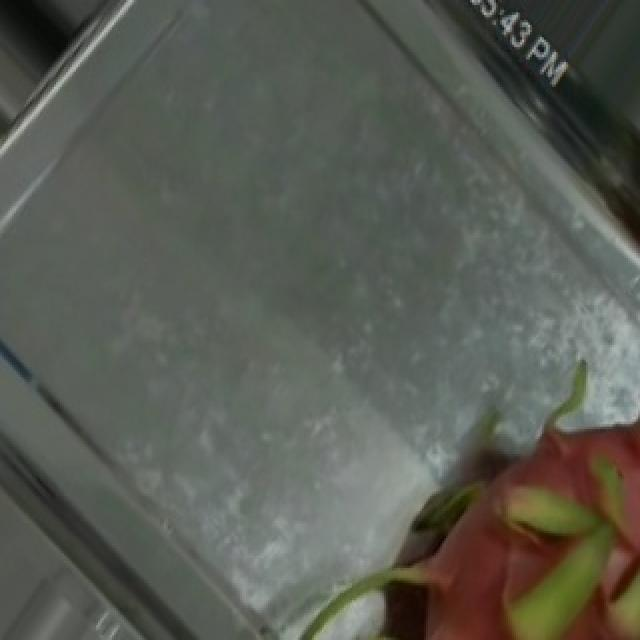fruit: (248, 310, 638, 640)
